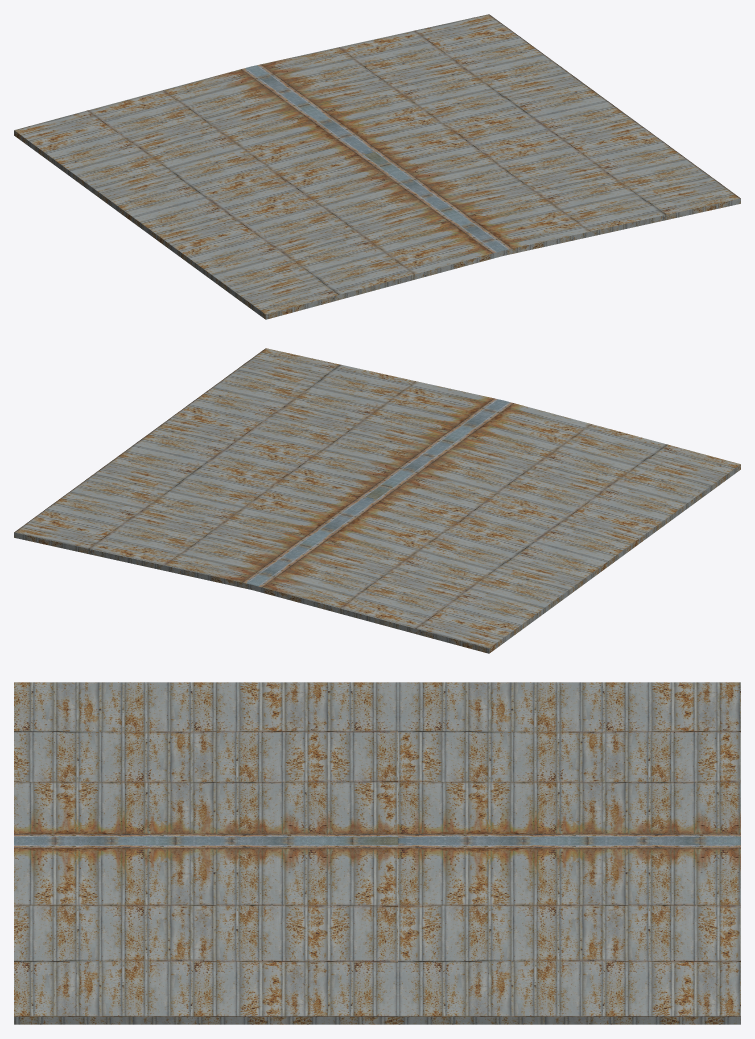
Rendered from Factory1Roof01.FBX.
3 renders of one model, top to bottom at view 1: azimuth 30°, elevation 25°; view 2: azimuth 150°, elevation 25°; view 3: azimuth 270°, elevation 25°, orthographic. The views are drawn at different scales.
Parts seen in each view (by area): view 1: Factory1Roof01; view 2: Factory1Roof01; view 3: Factory1Roof01.
Boxes of the visible parts, <box> form: Factory1Roof01: <box>14,14,740,319</box>; Factory1Roof01: <box>14,348,740,653</box>; Factory1Roof01: <box>14,682,740,1024</box>.
Size of the model in its own units: 1961 by 44.21 by 1800.
